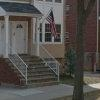stairs: (9, 54, 62, 85)
